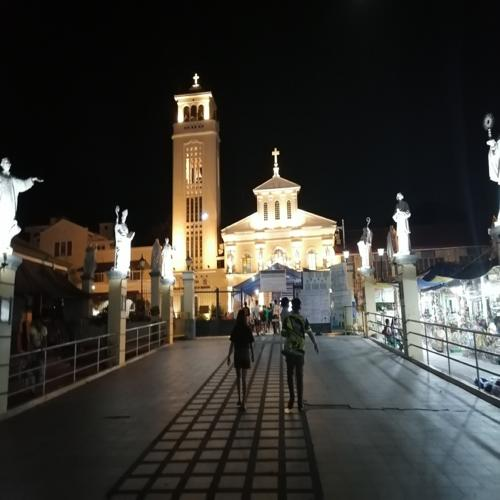Manaoag Church: (161, 67, 341, 270)
